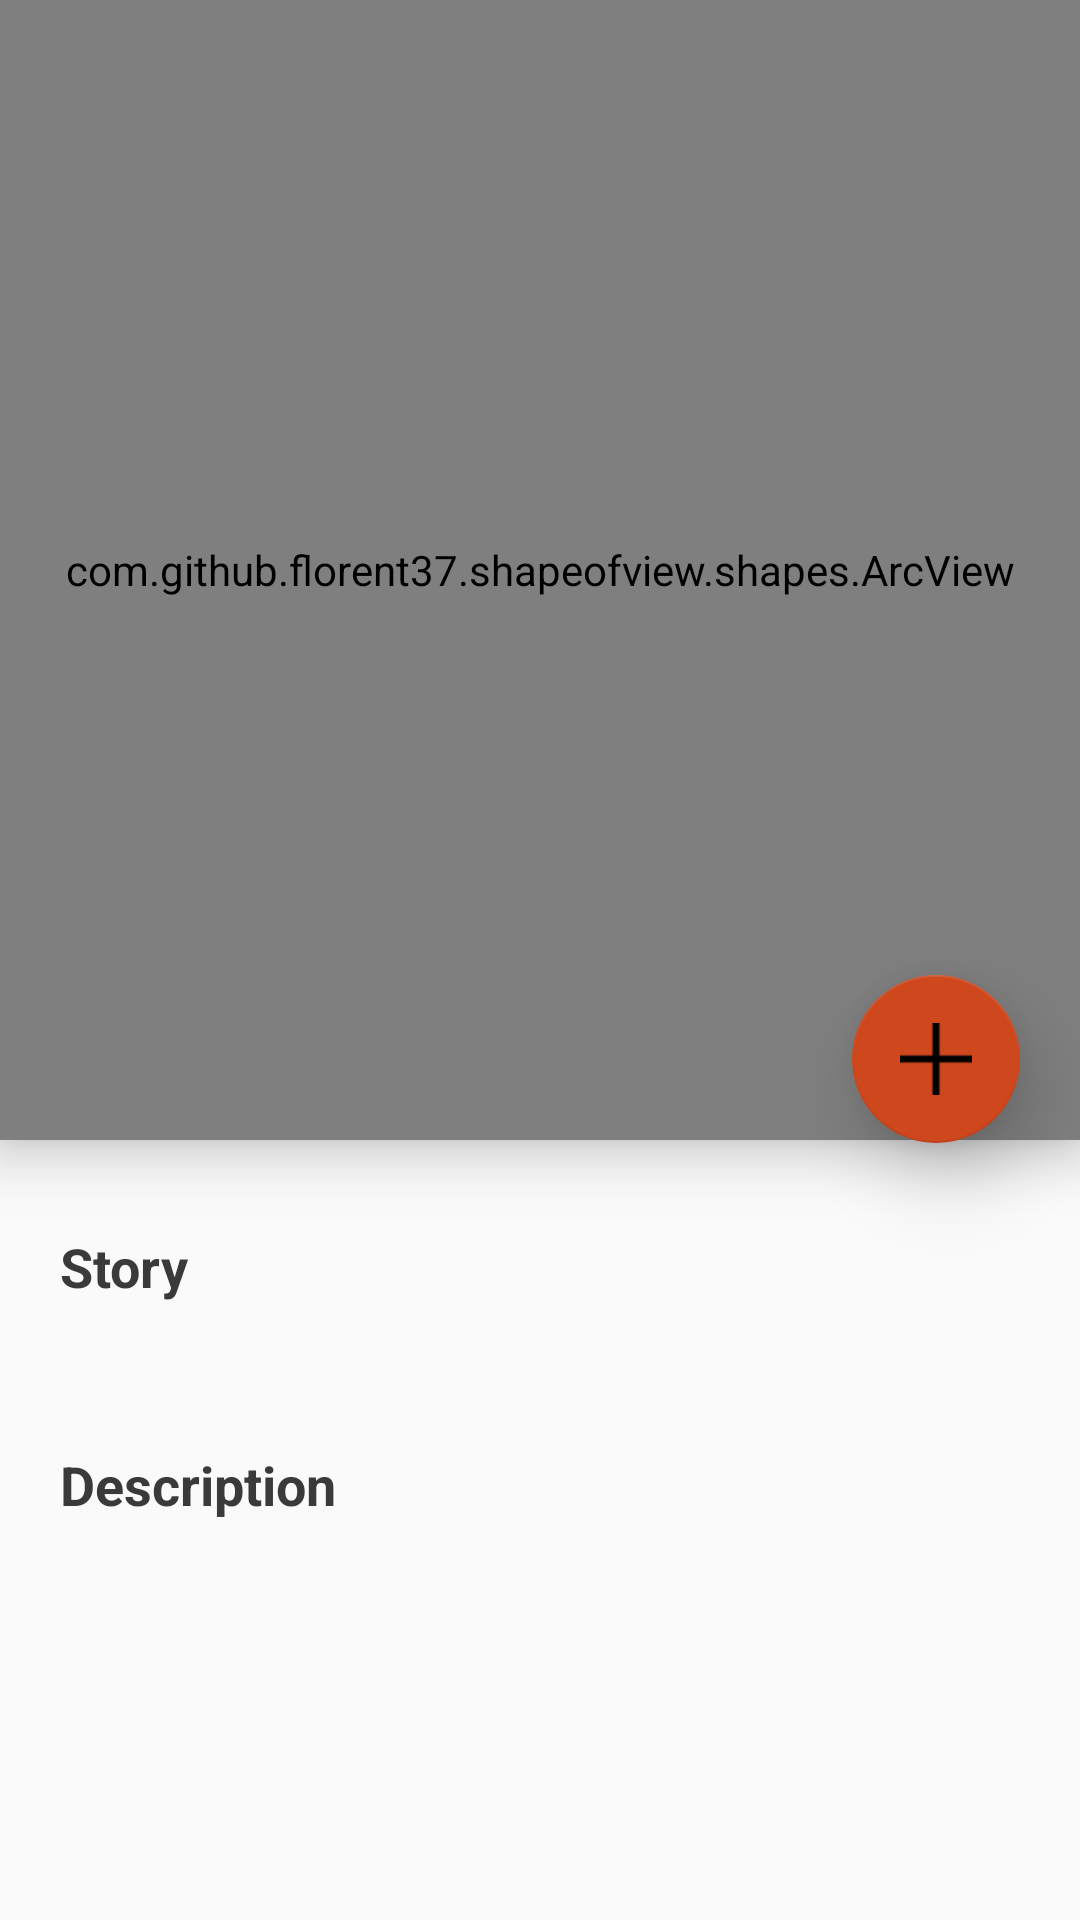

Locate icon controls on the screen. Image size 1080px×1920px, boxes as (x1, y1, x2, y2).
plus: (852, 975, 1020, 1143)
